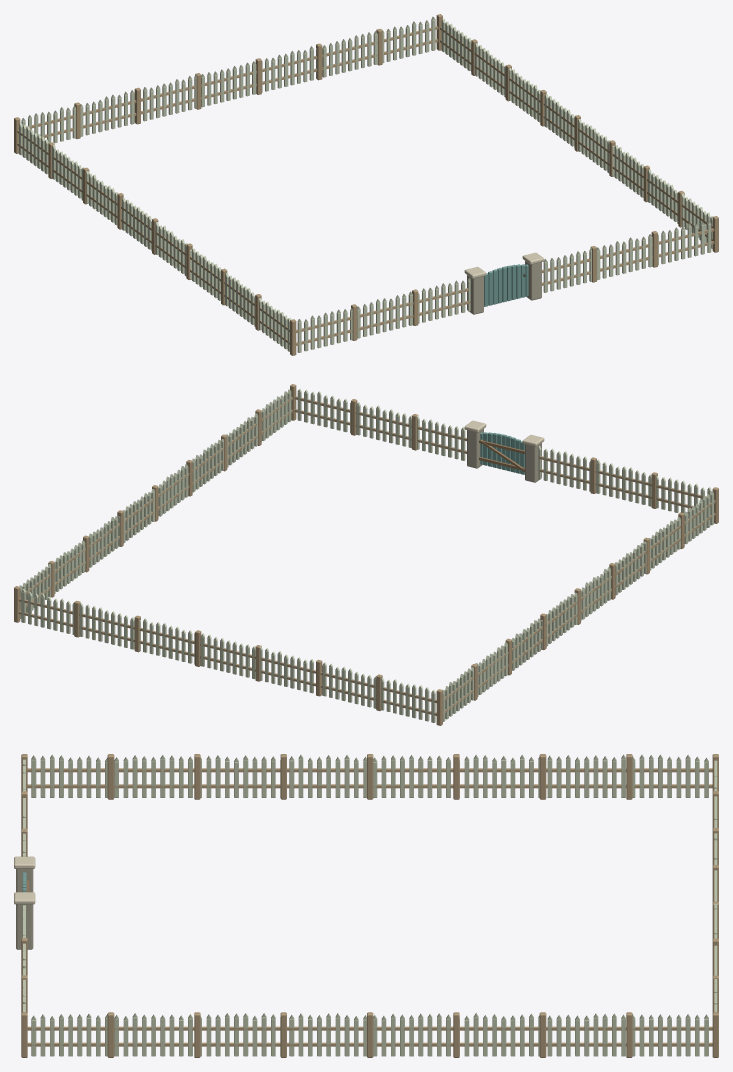
The model's file is SM_HippieCoupleHouse_Fence.fbx.
The picture shows the model from 3 angles, top to bottom: view 1: azimuth 30°, elevation 25°; view 2: azimuth 150°, elevation 25°; view 3: azimuth 270°, elevation 25°; orthographic projection. The views are drawn at different scales.
Parts seen in each view (by area): view 1: EXPORT_Fence rail.009, EXPORT_Fence rail.008, EXPORT_Fence rail.007, EXPORT_Fence rail.006, EXPORT_Fence rail.004, EXPORT_Fence rail.005, EXPORT_Gate stone pier; view 2: EXPORT_Fence rail.009, EXPORT_Fence rail.008, EXPORT_Fence rail.005, EXPORT_Fence rail.004, EXPORT_Fence rail.007, EXPORT_Fence rail.006, EXPORT_Gate stone pier; view 3: EXPORT_Fence rail.004, EXPORT_Fence rail.005, EXPORT_Fence rail.007, EXPORT_Fence rail.006, EXPORT_Gate stone pier.001.
Boxes of the visible parts, bbox=[...] form: EXPORT_Fence rail.009: bbox=[26, 26, 438, 128]; EXPORT_Fence rail.008: bbox=[41, 39, 438, 138]; EXPORT_Fence rail.007: bbox=[440, 27, 712, 228]; EXPORT_Fence rail.006: bbox=[440, 39, 712, 240]; EXPORT_Fence rail.004: bbox=[17, 143, 289, 344]; EXPORT_Fence rail.005: bbox=[17, 130, 289, 331]; EXPORT_Gate stone pier: bbox=[467, 275, 483, 314]; EXPORT_Fence rail.009: bbox=[18, 598, 436, 702]; EXPORT_Fence rail.008: bbox=[18, 611, 436, 715]; EXPORT_Fence rail.005: bbox=[443, 500, 715, 701]; EXPORT_Fence rail.004: bbox=[443, 513, 715, 714]; EXPORT_Fence rail.007: bbox=[20, 397, 292, 598]; EXPORT_Fence rail.006: bbox=[20, 409, 292, 610]; EXPORT_Gate stone pier: bbox=[525, 443, 541, 482]; EXPORT_Fence rail.004: bbox=[27, 784, 712, 788]; EXPORT_Fence rail.005: bbox=[27, 768, 712, 772]; EXPORT_Fence rail.007: bbox=[27, 1026, 712, 1030]; EXPORT_Fence rail.006: bbox=[27, 1042, 712, 1046]; EXPORT_Gate stone pier.001: bbox=[16, 904, 33, 949].
Size of the model in its own units: 1546 by 1765 by 140.
